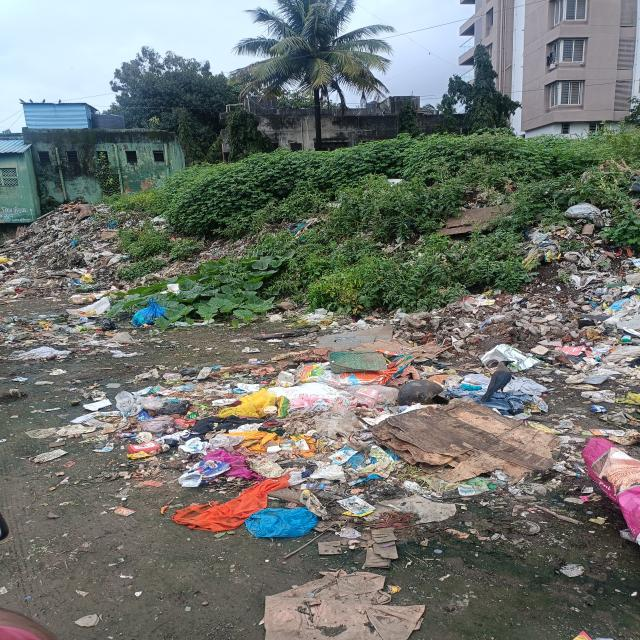garbage: (105, 359, 640, 538), (530, 208, 640, 356), (0, 205, 168, 298), (276, 293, 529, 354), (3, 306, 155, 358)
